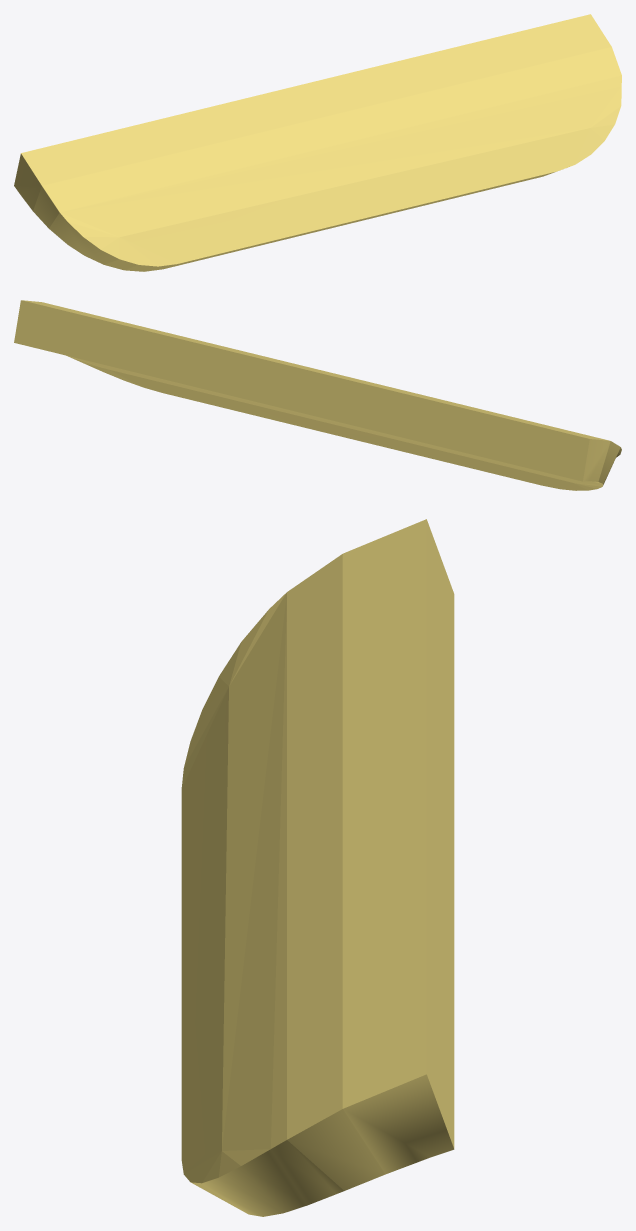
Rendered from link_finger_nail.3obj.obj.
3 views of the same model, one above another, from view 1: azimuth 30°, elevation 25°; view 2: azimuth 150°, elevation 25°; view 3: azimuth 270°, elevation 25° (orthographic). The views are drawn at different scales.
Parts seen in each view (by area): view 1: link_finger_nail whole_robot; view 2: link_finger_nail whole_robot; view 3: link_finger_nail whole_robot.
Boxes of the visible parts, bbox=[...] form: link_finger_nail whole_robot: bbox=[14, 14, 621, 271]; link_finger_nail whole_robot: bbox=[14, 300, 621, 490]; link_finger_nail whole_robot: bbox=[181, 519, 454, 1216].
Size of the model in its own units: 0.015 by 0.00263 by 0.00311.
1 material, 1 textured.
